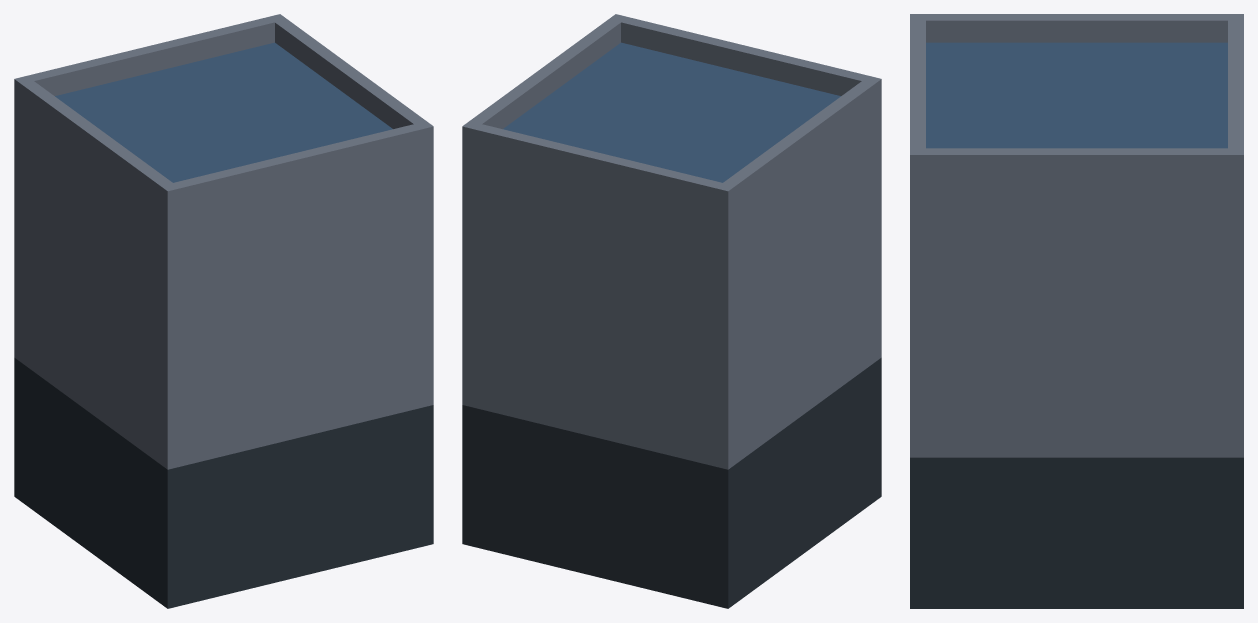
The model's file is Building_A.fbx.
3 views of the same model, side by side, from view 1: azimuth 30°, elevation 25°; view 2: azimuth 150°, elevation 25°; view 3: azimuth 270°, elevation 25° (orthographic). The views are drawn at different scales.
Visible parts, largest first — view 1: Building_A; view 2: Building_A; view 3: Building_A.
Part boxes in pixels (x1,y1,x2,y2): Building_A: [14, 14, 433, 608]; Building_A: [462, 14, 881, 608]; Building_A: [910, 14, 1243, 608].
Size of the model in its own units: 400 by 600 by 400.
